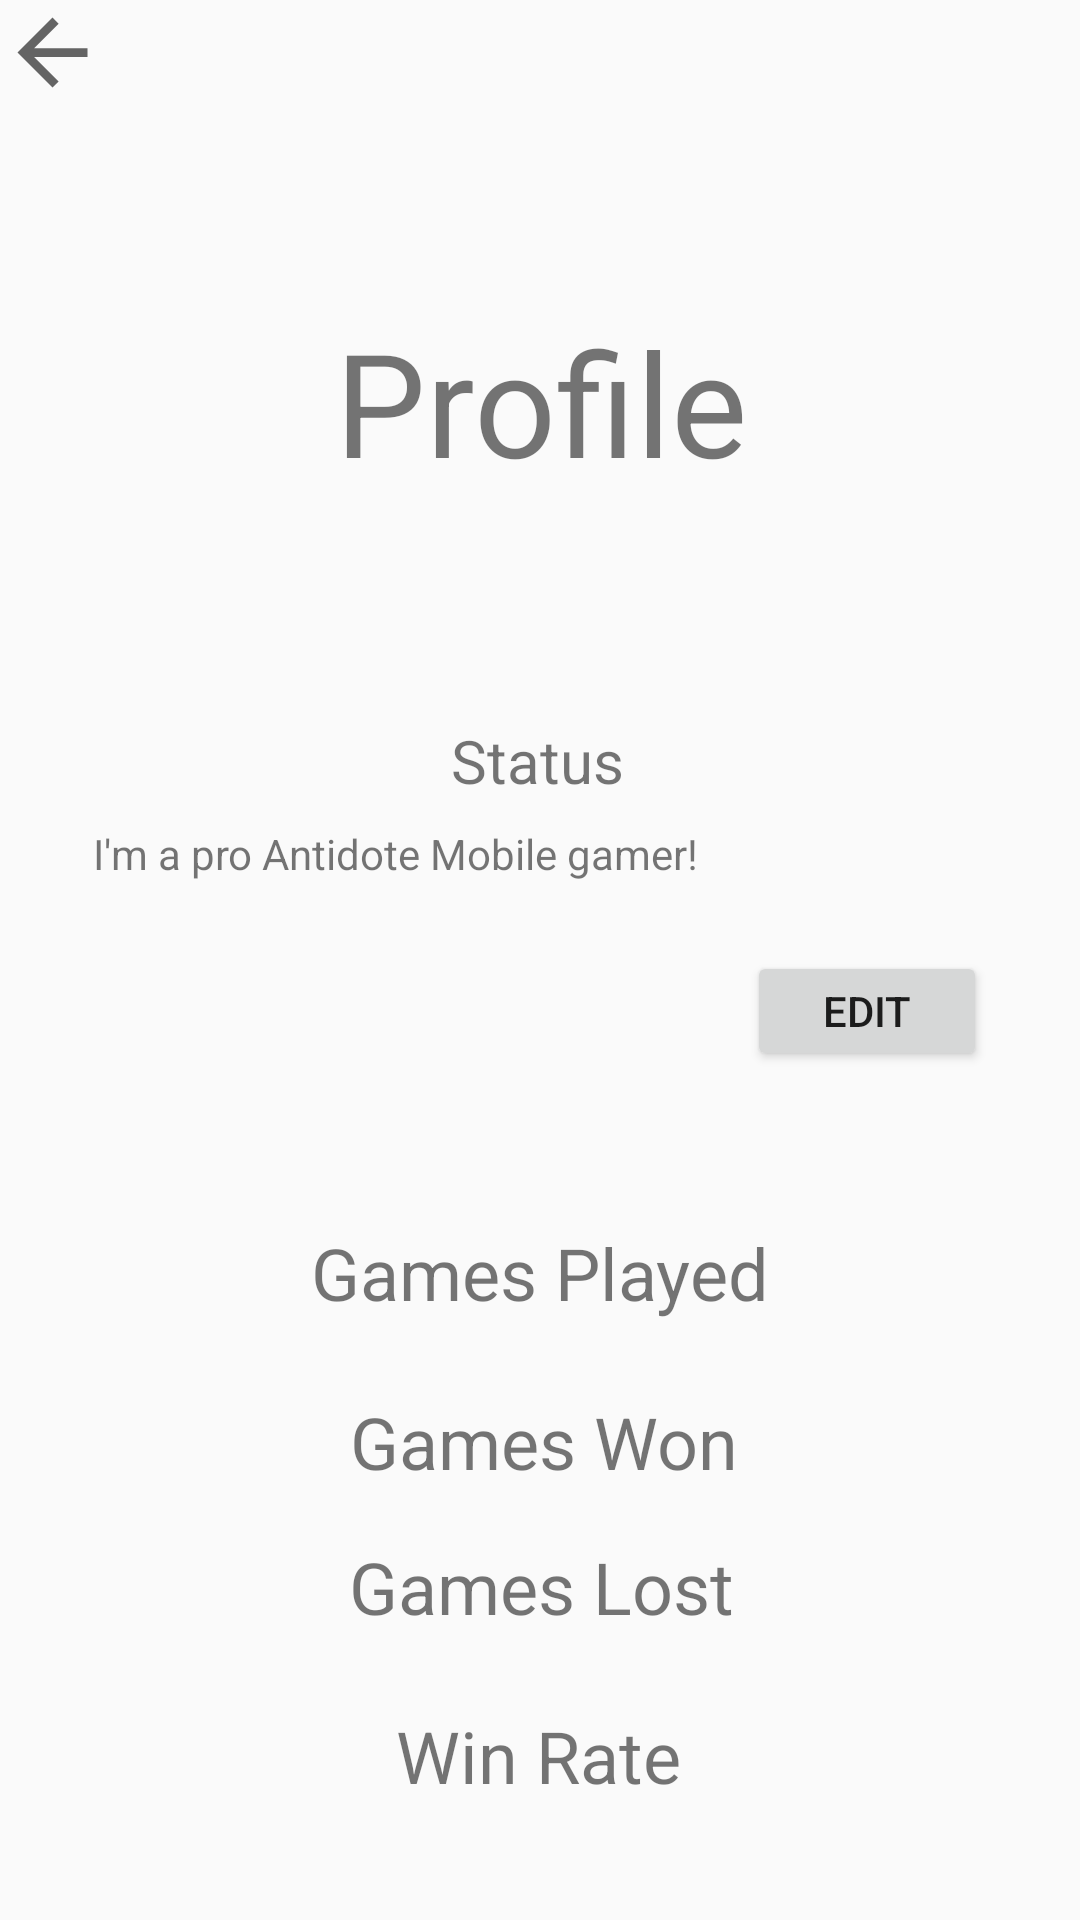

Named icons in this screenshot (1080 × 1920) and their centers, (x,y):
Returns the user to the previous page: (52,52)
